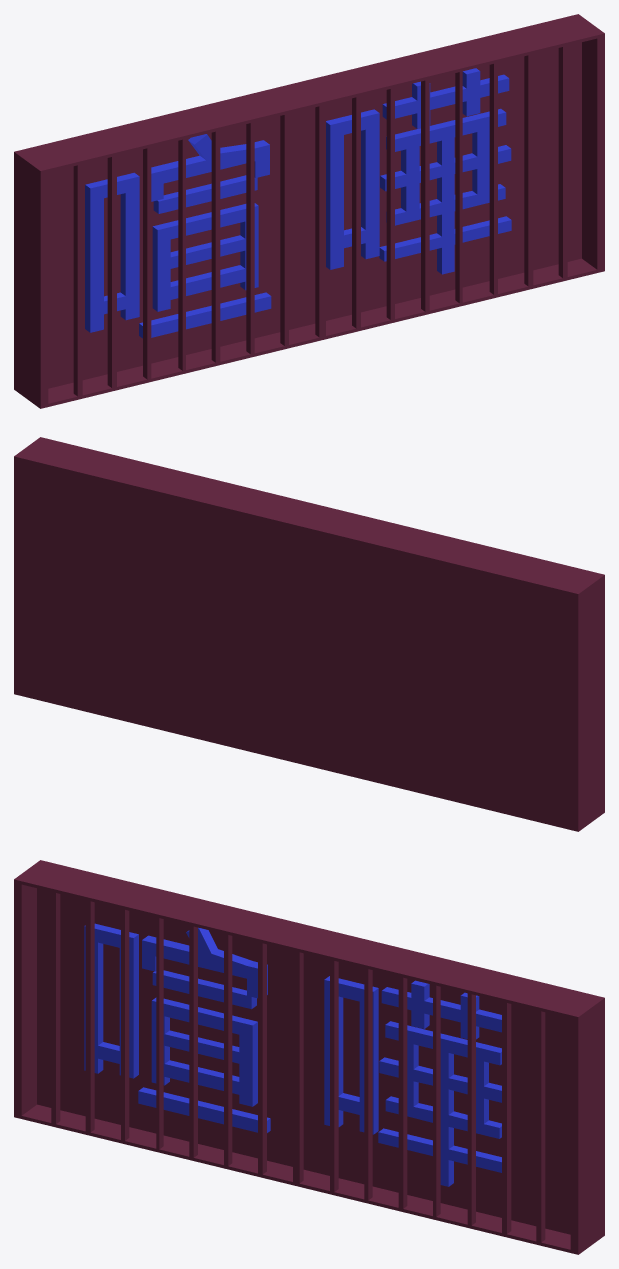
The model's file is Sign.fbx.
3 views of the same model, one above another, from view 1: azimuth 30°, elevation 25°; view 2: azimuth 150°, elevation 25°; view 3: azimuth 330°, elevation 25° (orthographic).
Visible parts, largest first — view 1: Sign; view 2: Sign; view 3: Sign.
Part boxes in pixels (left/top/right/bottom): Sign: left=14, top=14, right=604, bottom=408; Sign: left=14, top=437, right=604, bottom=831; Sign: left=14, top=860, right=604, bottom=1254.
Size of the model in its own units: 124 by 50.04 by 10.11.
